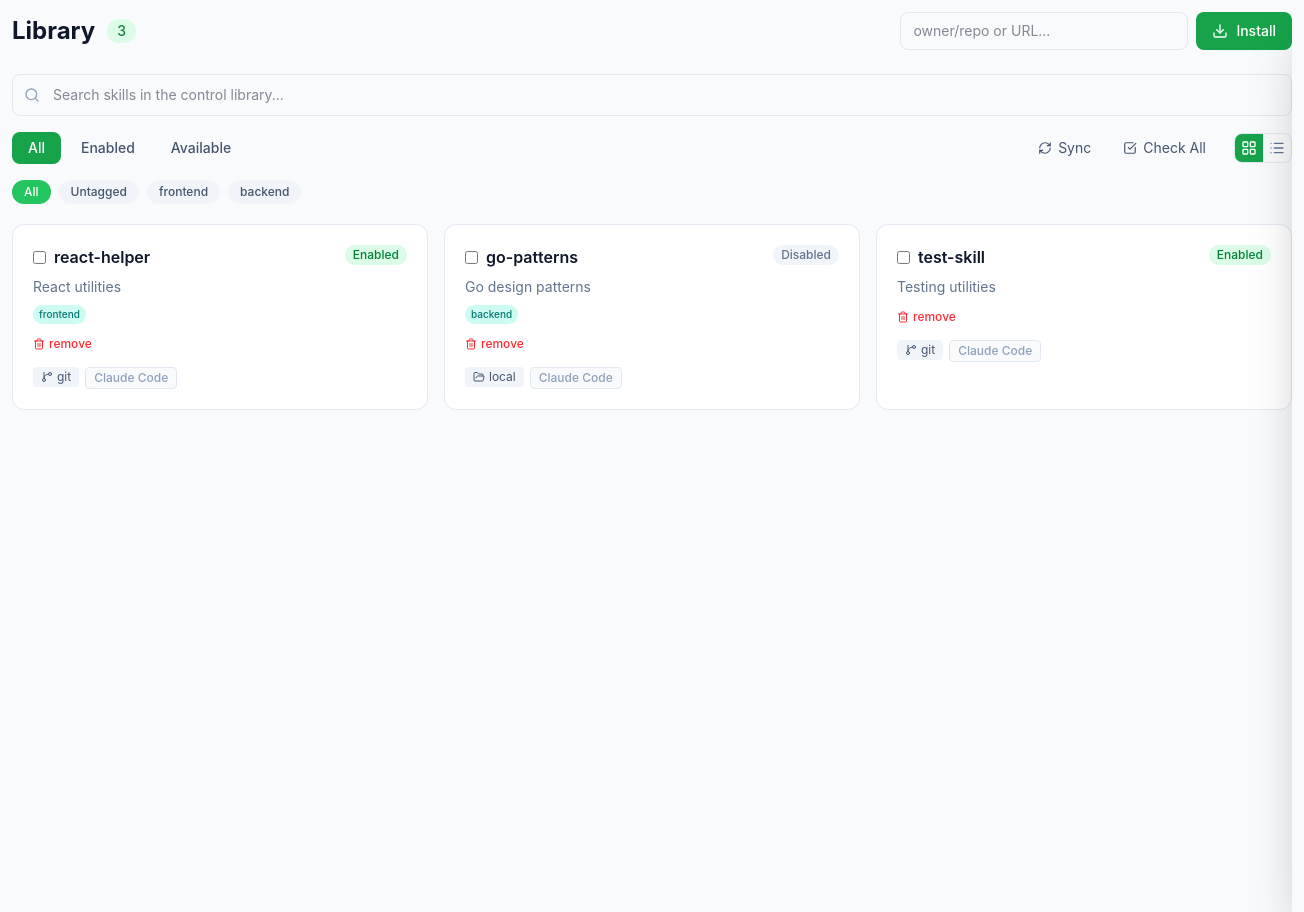
Test: SkillsLibrary › filters skills by search text
The width and height of the screenshot is (1304, 912).
Check: the heading "react-helper" is shown, box 54,245 -> 150,269
Step 1. Type "react" into the field with placeholder "Search skills in the control library..." → (652, 95), box 12,74 -> 1292,116
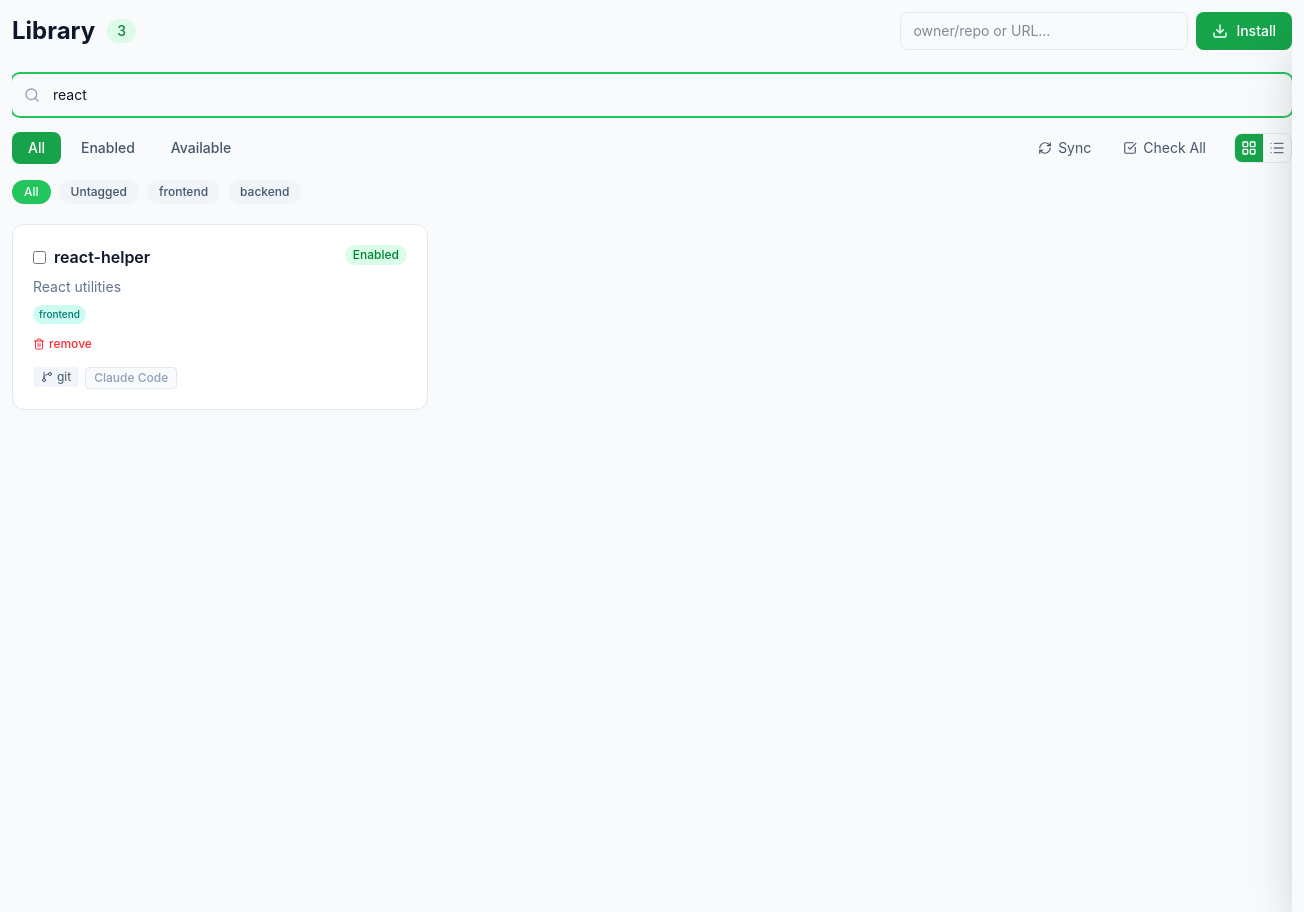
Check: the heading "react-helper" is shown, box 54,245 -> 150,269
Check: the heading "go-patterns" is gone
